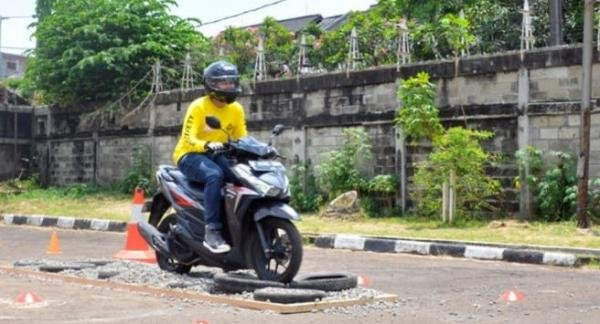motor: (147, 133, 301, 279)
